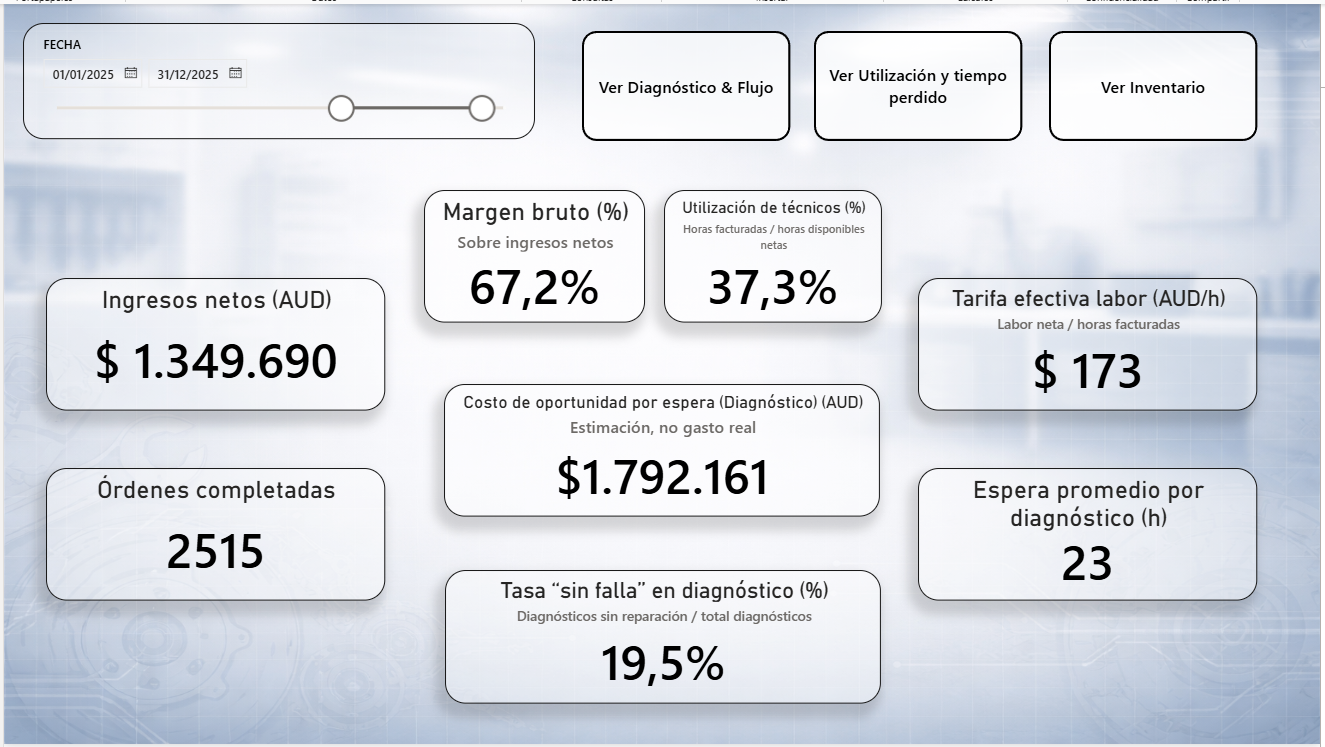

Layout of this report page (visuals, bound fields, positions):
{"tool":"powerbi","page":{"name":"Landing page","canvas":[1280,720],"ordinal":0},"visuals":[{"type":"card","title":"Margen bruto (%)","fields":{"Values":["Medidas.Margen Bruto %"]},"box":[408.7,181.2,215,129.5],"z":0},{"type":"card","title":"Tarifa efectiva labor (AUD/h)","fields":{"Values":["Medidas.Tarifa Efectiva Labor (Neta)"]},"box":[889.4,266.8,329.9,129.5],"z":1000},{"type":"card","title":"Ingresos netos (AUD)","fields":{"Values":["Medidas.Ingresos Netos"]},"box":[40.5,266.8,329.9,129.5],"z":2000},{"type":"slicer","fields":{"Values":["DatetableTbl.Date"]},"box":[18.9,18.9,497.8,113.3],"z":3000},{"type":"card","title":"Utilización de técnicos (%)","fields":{"Values":["Medidas.Utilización %"]},"box":[641.7,181.2,211.6,129.5],"z":4000},{"type":"card","title":"Tasa “sin falla” en diagnóstico (%)","fields":{"Values":["Medidas.Diagnóstico \"Sin falla\" %"]},"box":[428.9,550.5,424.4,130],"z":5000},{"type":"card","title":"Costo de oportunidad por espera (Diagnóstico) (AUD)","fields":{"Values":["Medidas.Costo Espera Diagnóstico (AUD)"]},"box":[427.8,369.3,424.4,129.5],"z":6000},{"type":"actionButton","box":[561.8,25.9,202.6,106.9],"z":7000},{"type":"actionButton","box":[788,25.9,202.6,106.9],"z":8000},{"type":"actionButton","box":[1016.6,25.9,202.6,106.9],"z":9000},{"type":"card","title":"Órdenes completadas","fields":{"Values":["Medidas.Órdenes (Completadas)"]},"box":[40.5,451.4,329.9,129.5],"z":10000},{"type":"card","title":"Espera promedio por diagnóstico (h)","fields":{"Values":["Medidas.Prom. Horas Espera (Diagnóstico)"]},"box":[889.4,451.4,329.9,129.5],"z":11000}]}

Visuals, with their boxes in screenshot pixels (x1, y1, x2, y2), scaled from the page's 1280x720 canvas onto the 1325x747 screenshot:
"Margen bruto (%)" card: rect(423, 188, 646, 322)
"Tarifa efectiva labor (AUD/h)" card: rect(921, 277, 1262, 411)
"Ingresos netos (AUD)" card: rect(42, 277, 383, 411)
slicer - DatetableTbl.Date: rect(20, 20, 535, 137)
"Utilización de técnicos (%)" card: rect(664, 188, 883, 322)
"Tasa “sin falla” en diagnóstico (%)" card: rect(444, 571, 883, 706)
"Costo de oportunidad por espera (Diagnóstico) (AUD)" card: rect(443, 383, 882, 518)
actionButton: rect(582, 27, 791, 138)
actionButton: rect(816, 27, 1025, 138)
actionButton: rect(1052, 27, 1262, 138)
"Órdenes completadas" card: rect(42, 468, 383, 603)
"Espera promedio por diagnóstico (h)" card: rect(921, 468, 1262, 603)
